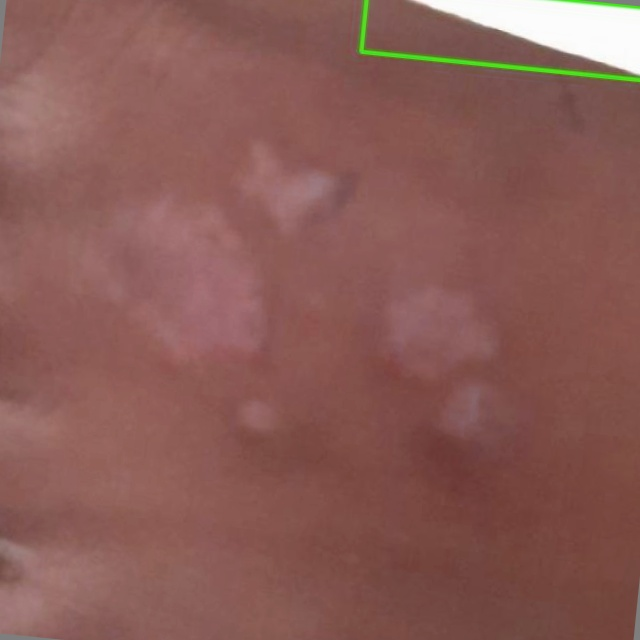Eczema: (361, 0, 639, 79)
